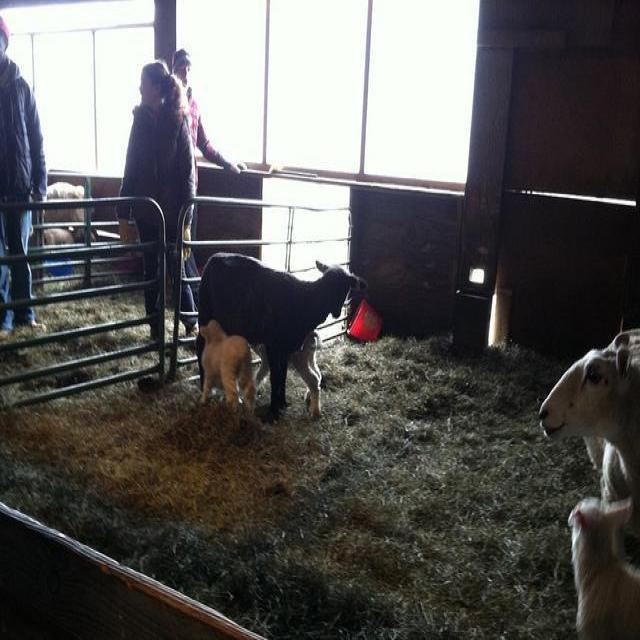Sheep: (197, 250, 367, 420), (539, 328, 639, 509), (566, 492, 639, 638), (250, 332, 323, 419), (201, 324, 255, 418), (44, 183, 85, 245)
